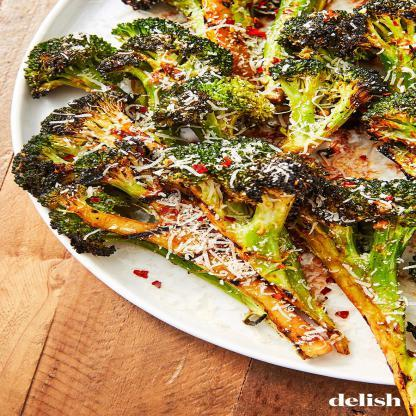broccoli: (10, 0, 416, 416)
